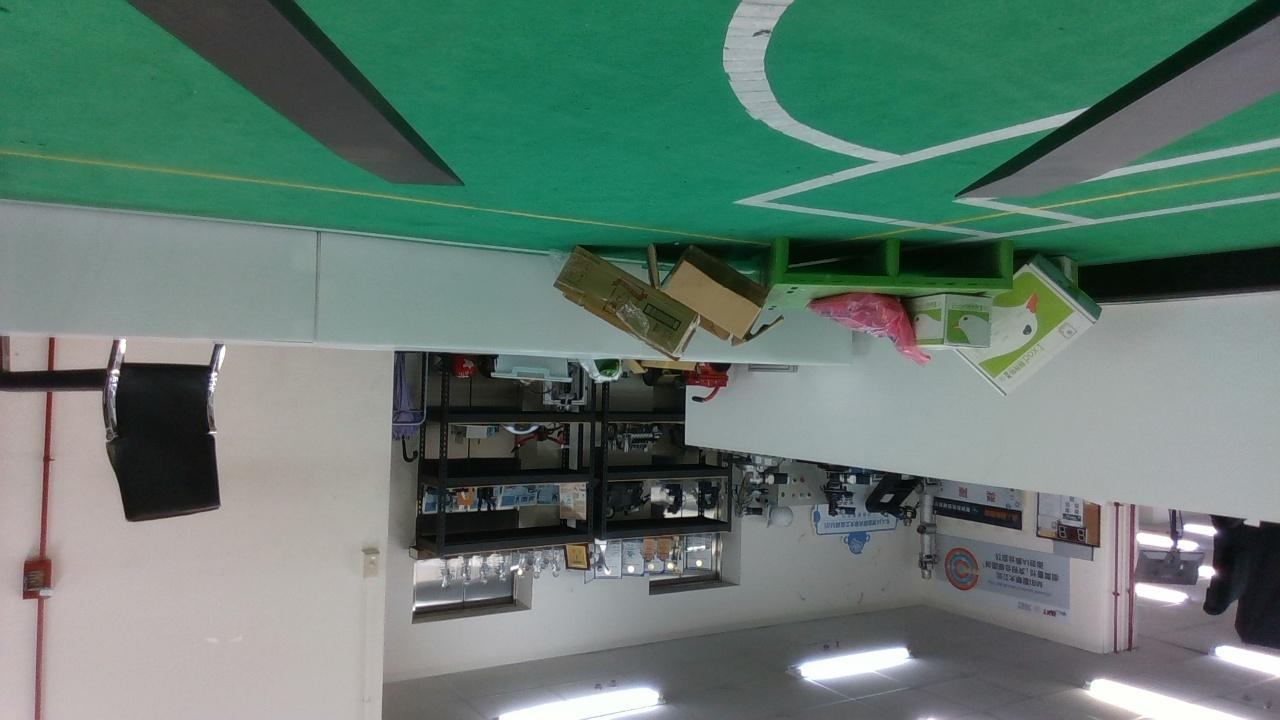Pallet: (772, 236, 1013, 292)
